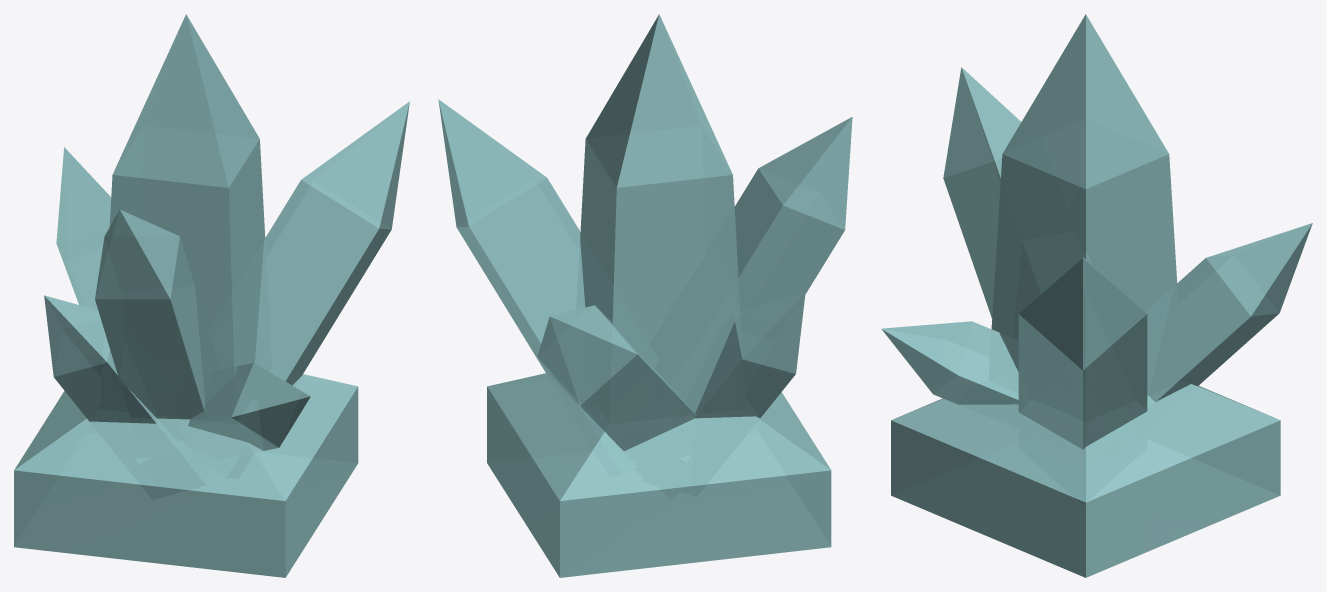
File: illuminating crystal rock.fbx
The picture shows the model from 3 angles, left to right: view 1: azimuth 30°, elevation 25°; view 2: azimuth 150°, elevation 25°; view 3: azimuth 270°, elevation 25°; orthographic projection.
Visible parts, largest first — view 1: maincrystal, crystal01, crystal03, crystal02, crystal05, crystal04; view 2: maincrystal, crystal01, crystal03, crystal04, crystal02; view 3: maincrystal, crystal01, crystal04, crystal03, crystal05.
Boxes of the visible parts, box(x1,y1,x2,y2) form: maincrystal: box(14, 14, 358, 577); crystal01: box(255, 101, 409, 385); crystal03: box(95, 210, 205, 419); crystal02: box(44, 295, 156, 423); crystal05: box(188, 363, 310, 450); crystal04: box(56, 147, 111, 309); maincrystal: box(487, 14, 831, 577); crystal01: box(438, 99, 585, 406); crystal03: box(734, 117, 852, 310); crystal04: box(537, 305, 696, 451); crystal02: box(695, 292, 805, 418); maincrystal: box(891, 14, 1280, 577); crystal01: box(1018, 257, 1147, 449); crystal04: box(1148, 223, 1312, 402); crystal03: box(943, 67, 1021, 318); crystal05: box(881, 321, 1018, 404).
Bounding box in the file's own units: 11.01 × 13.1 × 10.65.
